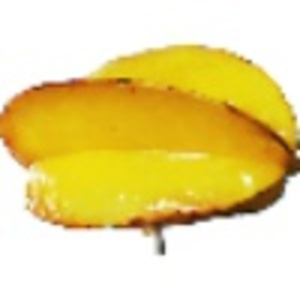carambola: (1, 41, 300, 254)
